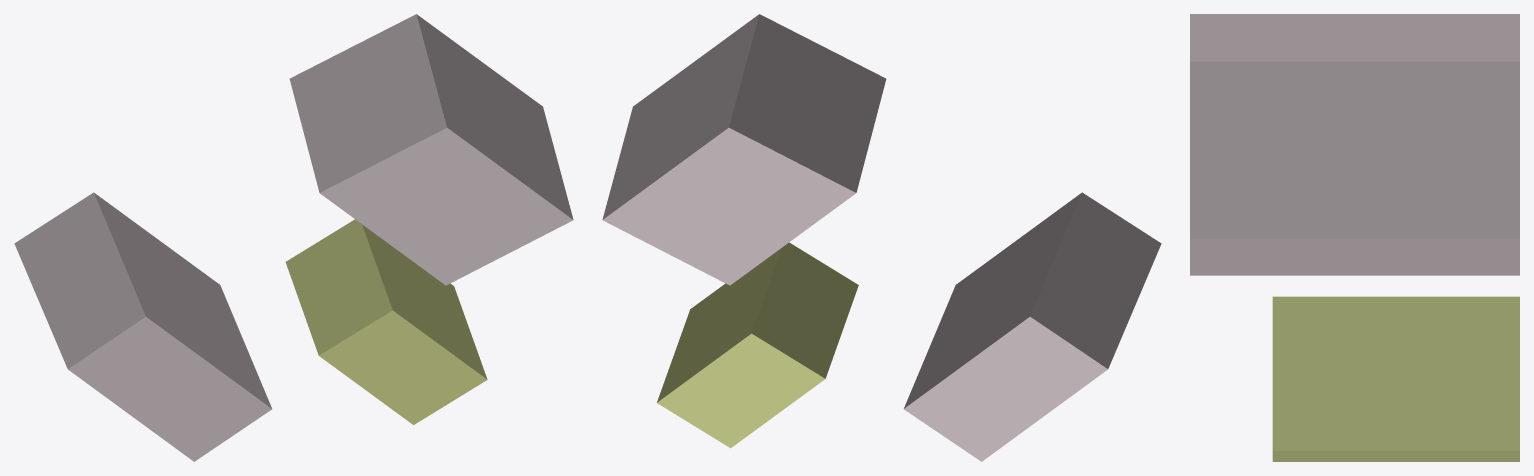
3 renders of one model, left to right at view 1: azimuth 30°, elevation 25°; view 2: azimuth 150°, elevation 25°; view 3: azimuth 270°, elevation 25°, orthographic. The views are drawn at different scales.
Visible parts, largest first — view 1: 0_1_2_0_3_3_0_2_3_0; view 2: 0_1_2_0_3_3_0_2_3_0; view 3: 0_1_2_0_3_3_0_2_3_0.
Part boxes in pixels (box(x1,y1,x2,y2)): 0_1_2_0_3_3_0_2_3_0: box(14, 14, 573, 461); 0_1_2_0_3_3_0_2_3_0: box(602, 14, 1161, 461); 0_1_2_0_3_3_0_2_3_0: box(1190, 14, 1519, 461).
Size of the model in its own units: 23.7 by 16.64 by 12.
